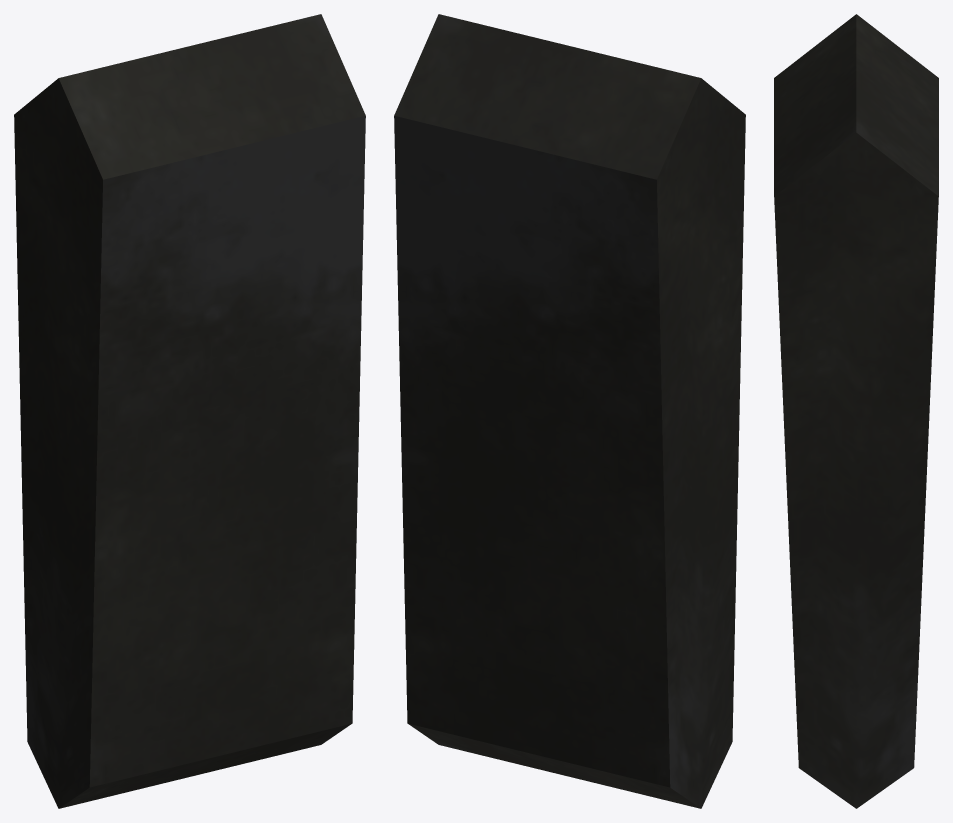
Rendered from Oxygen_Dial.glb.
The picture shows the model from 3 angles, left to right: view 1: azimuth 30°, elevation 25°; view 2: azimuth 150°, elevation 25°; view 3: azimuth 270°, elevation 25°; orthographic projection. The views are drawn at different scales.
Visible parts, largest first — view 1: Circle.006; view 2: Circle.006; view 3: Circle.006.
Boxes of the visible parts, x1,y1,x2,y2 form: Circle.006: (14, 14, 365, 808); Circle.006: (394, 14, 745, 808); Circle.006: (774, 14, 938, 808).
Size of the model in its own units: 0.0489 by 0.1299 by 0.0287.
Materials: 1 (1 with a texture image).
